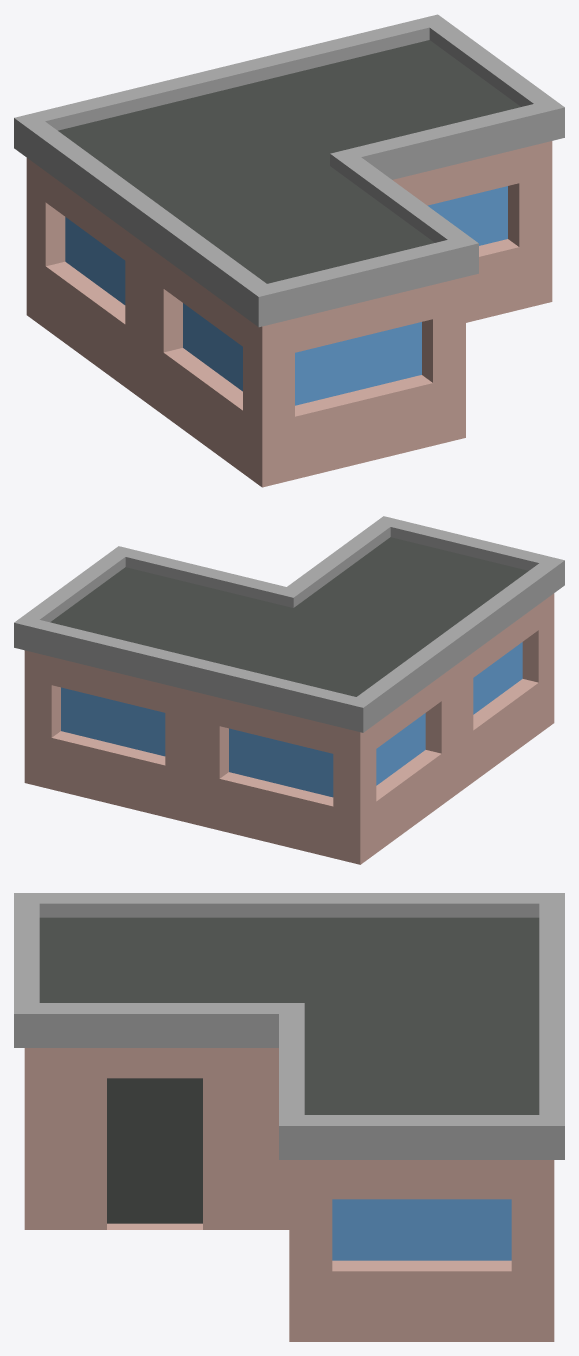
The model's file is building_L_0_g_beige.glb.
3 views of the same model, one above another, from view 1: azimuth 30°, elevation 25°; view 2: azimuth 150°, elevation 25°; view 3: azimuth 270°, elevation 25° (orthographic). The views are drawn at different scales.
Visible parts, largest first — view 1: Cube; view 2: Cube; view 3: Cube.
Boxes of the visible parts, x1,y1,x2,y2 form: Cube: [14, 14, 564, 487]; Cube: [14, 516, 564, 864]; Cube: [14, 893, 564, 1341].
Size of the model in its own units: 3.62 by 1.6 by 3.62.
